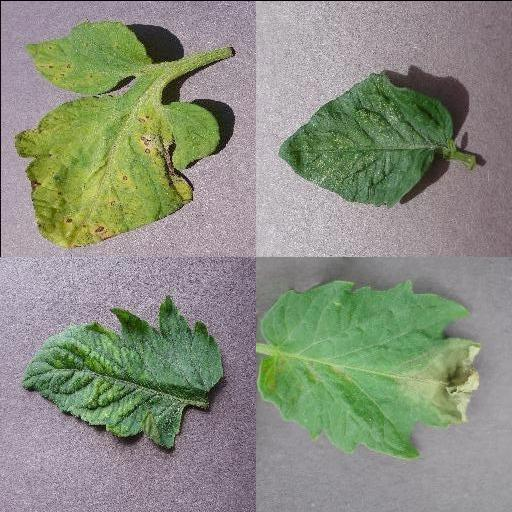Late Blight: (257, 276, 479, 458)
Mosaic Virus: (20, 293, 226, 450)
Septoria: (13, 95, 222, 249), (26, 17, 150, 93)
Spider Mites: (277, 72, 451, 208)
